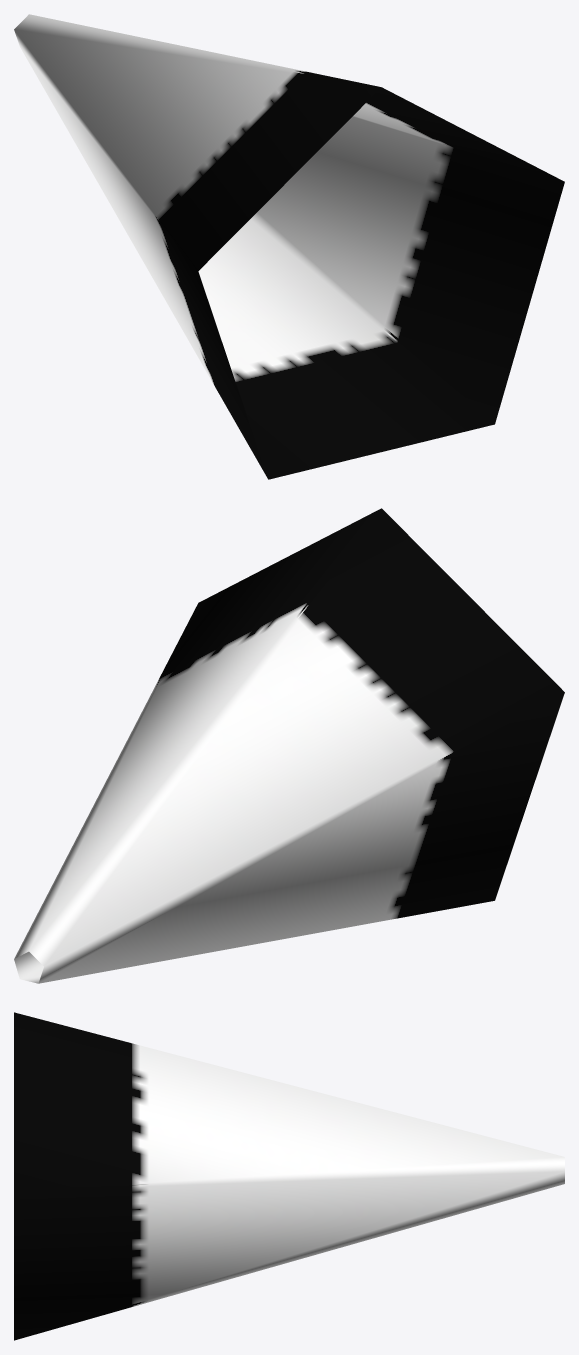
Rendered from MuzzleFlash.glb.
3 renders of one model, top to bottom at view 1: azimuth 30°, elevation 25°; view 2: azimuth 150°, elevation 25°; view 3: azimuth 270°, elevation 25°, orthographic. The views are drawn at different scales.
Visible parts, largest first — view 1: MuzzleFlash; view 2: MuzzleFlash; view 3: MuzzleFlash.
Boxes of the visible parts, x1,y1,x2,y2 form: MuzzleFlash: (14, 14, 564, 479); MuzzleFlash: (14, 508, 564, 983); MuzzleFlash: (14, 1012, 564, 1340).
Size of the model in its own units: 0.1269 by 0.1207 by 0.2115.
1 material, 1 textured.
